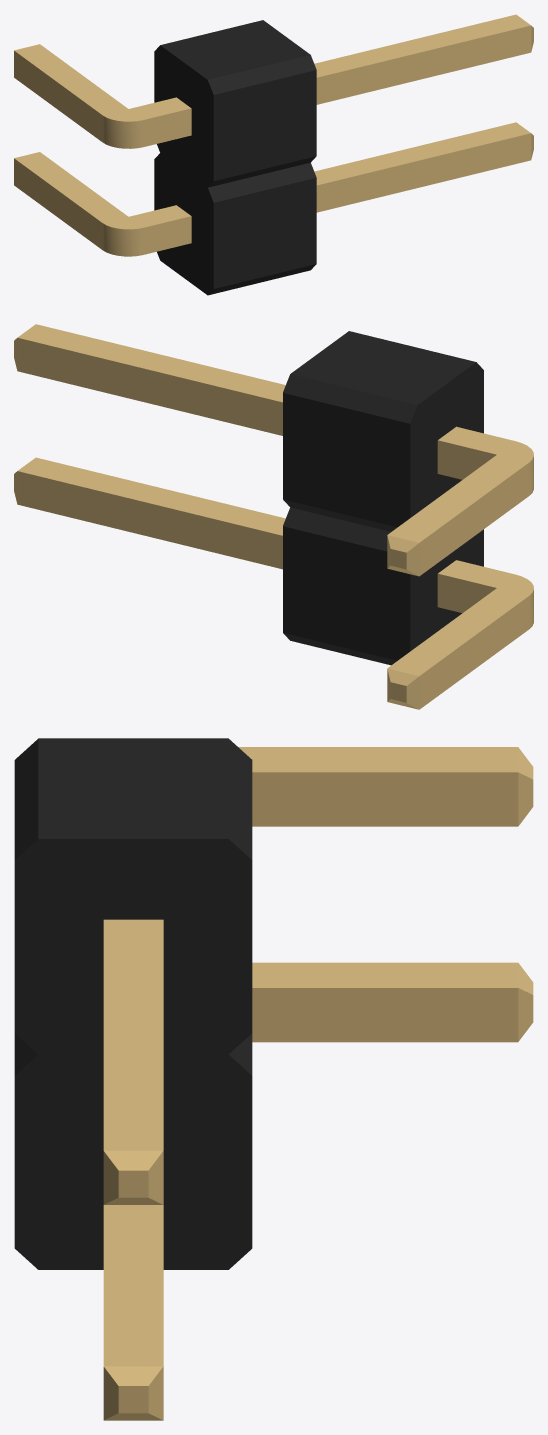
File: header-1x02-bent.glb
3 views of the same model, one above another, from view 1: azimuth 30°, elevation 25°; view 2: azimuth 150°, elevation 25°; view 3: azimuth 270°, elevation 25° (orthographic). The views are drawn at different scales.
Parts seen in each view (by area): view 1: IC-BODY-EPOXY-04, PIN-02; view 2: PIN-02, IC-BODY-EPOXY-04; view 3: IC-BODY-EPOXY-04, PIN-02.
Part boxes in pixels (box(x1,y1,x2,y2)): IC-BODY-EPOXY-04: box(154, 20, 316, 295); PIN-02: box(14, 14, 533, 256); PIN-02: box(14, 324, 533, 709); IC-BODY-EPOXY-04: box(283, 331, 483, 665); IC-BODY-EPOXY-04: box(14, 738, 252, 1269); PIN-02: box(103, 747, 533, 1420).
Bounding box in the file's own units: 10.36 × 5.08 × 5.54.
